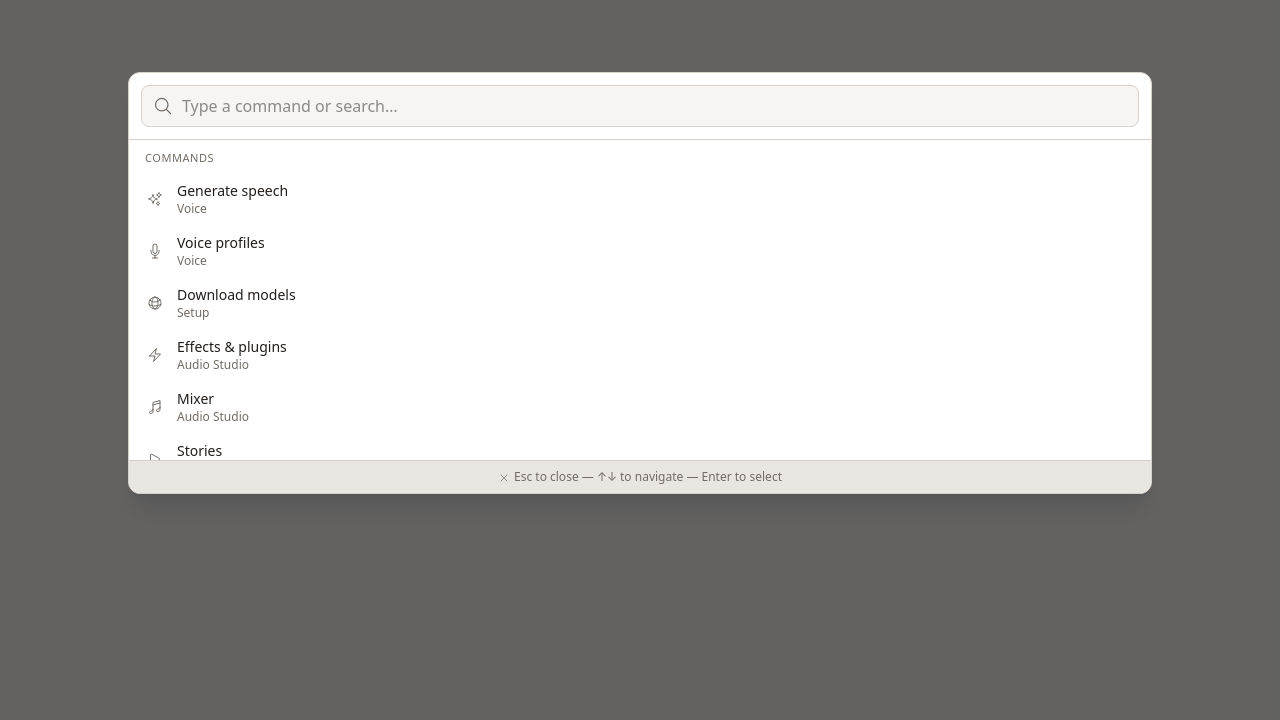
Test: CommandPalette › CommandPalette — settings from the schema › finds a setting by keyword (search synonyms from the schema)
The image size is (1280, 720).
// "on launch" is a keyword on appearance.on_launch
In the field with placeholder "Type a command or search…": x=640, y=106 x1=141 y1=85 x2=1139 y2=127, type "on launch"
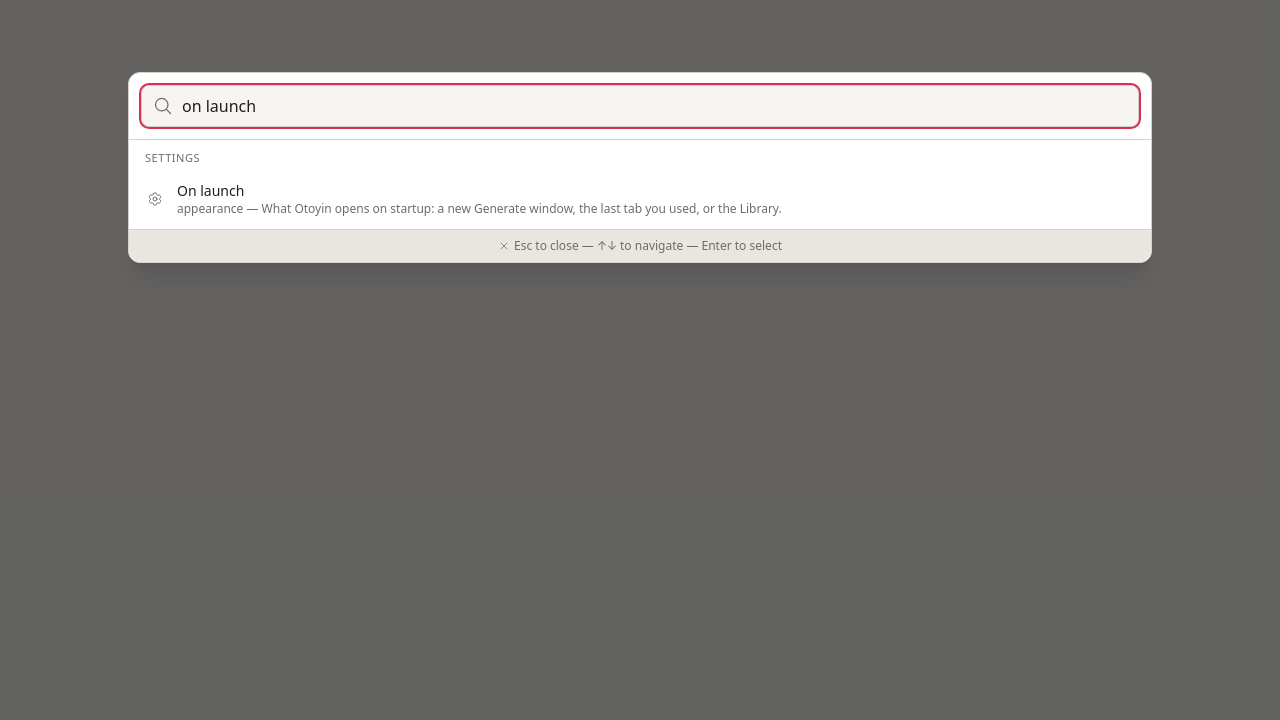
Now the text "On launch" is shown, box x1=177 y1=180 x2=244 y2=200
